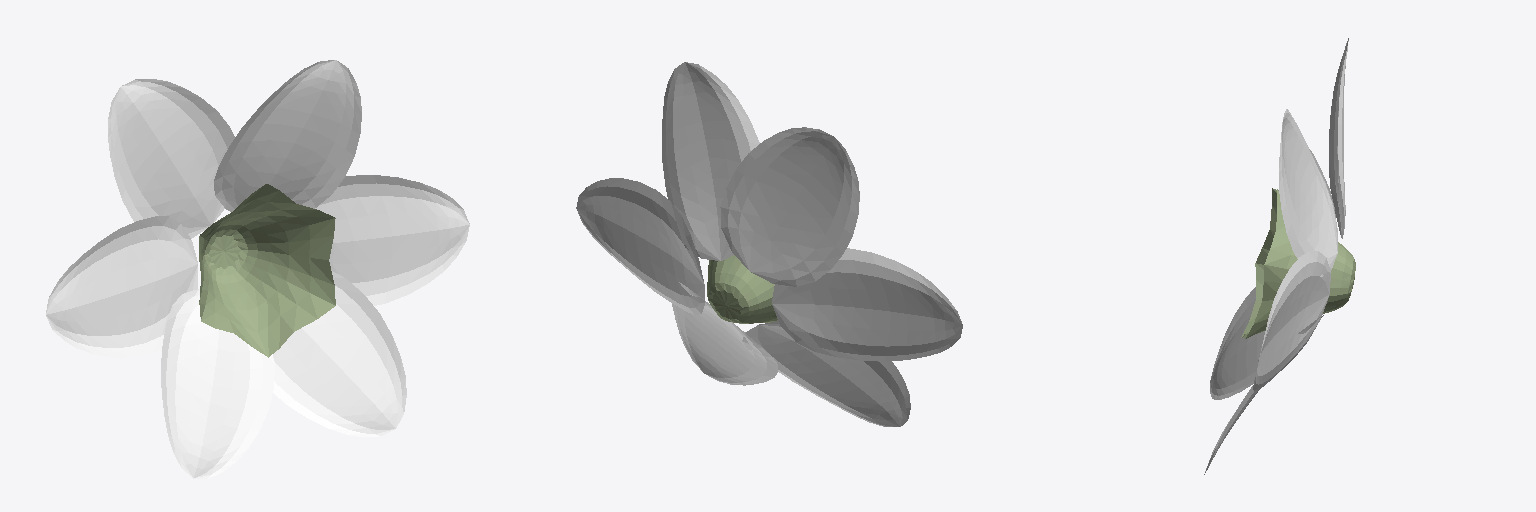
3 views of the same model, side by side, from view 1: azimuth 30°, elevation 25°; view 2: azimuth 150°, elevation 25°; view 3: azimuth 270°, elevation 25° (orthographic).
Parts seen in each view (by area): view 1: Plane.003; view 2: Plane.003; view 3: Plane.003.
Boxes of the visible parts, x1,y1,x2,y2 form: Plane.003: [46, 60, 469, 478]; Plane.003: [576, 62, 962, 426]; Plane.003: [1204, 38, 1355, 474].
Size of the model in its own units: 6.2 by 5.17 by 2.01.
Materials: 1 (1 with a texture image).